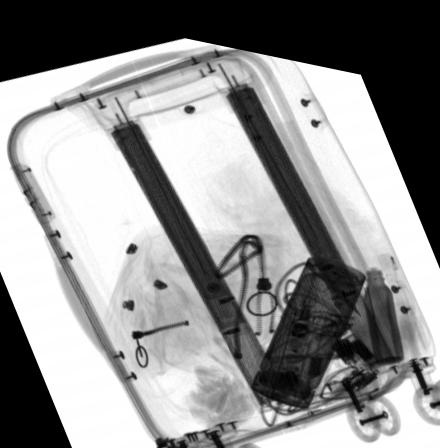Scissors: (307, 247, 364, 298)
